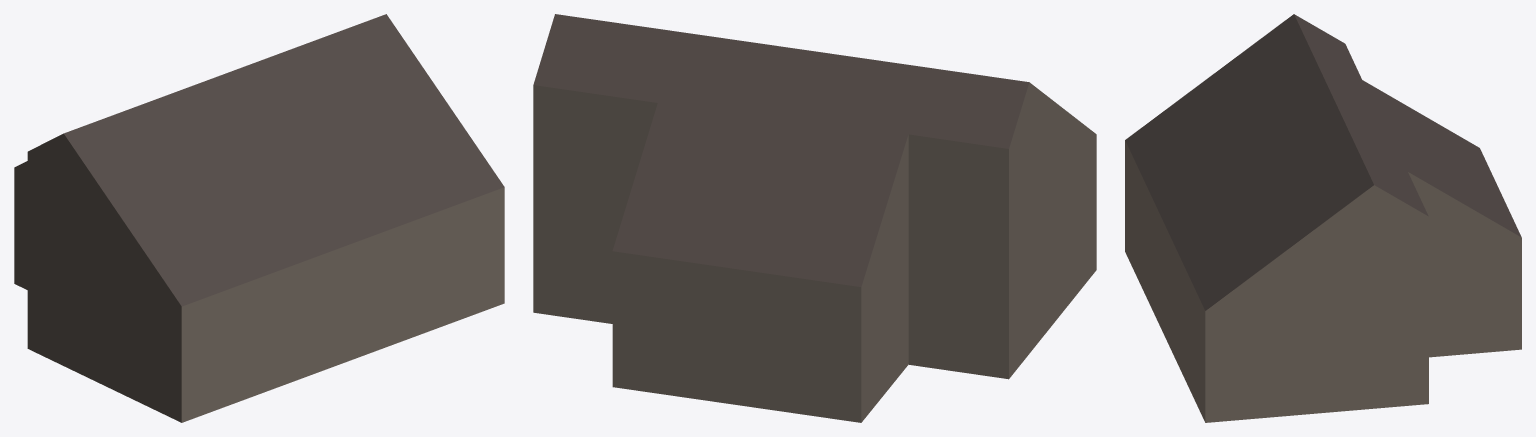
3 renders of one model, left to right at view 1: azimuth 30°, elevation 25°; view 2: azimuth 150°, elevation 25°; view 3: azimuth 270°, elevation 25°, orthographic. The views are drawn at different scales.
Visible parts, largest first — view 1: HP-w428196072; view 2: HP-w428196072; view 3: HP-w428196072.
Part boxes in pixels (left/top/right/bottom): HP-w428196072: left=14, top=14, right=504, bottom=422; HP-w428196072: left=533, top=14, right=1096, bottom=422; HP-w428196072: left=1125, top=14, right=1521, bottom=422.
Bounding box in the file's own units: 10.91 × 6 × 9.65.
